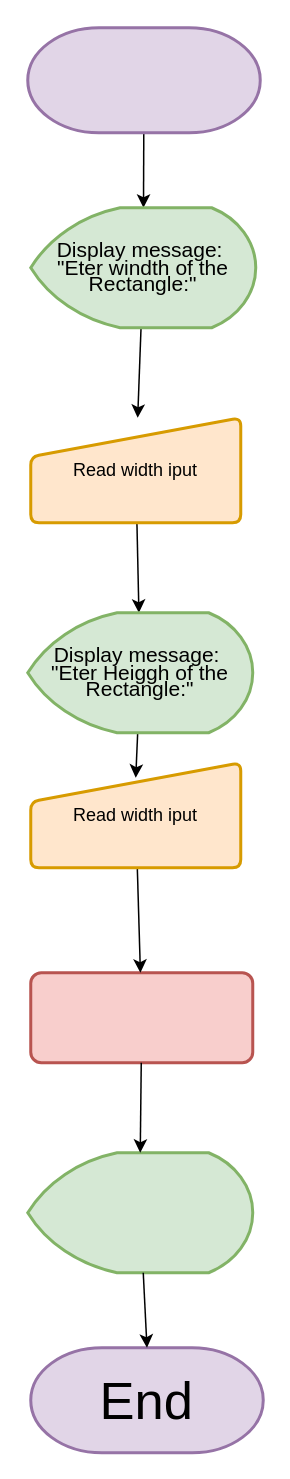
Image size: 290x1479. Some labels were removed from this diagram. The centre of each missing label's shape, as x and y in pixels:
Calculate area: area = width * height: (141,1017)
Display message: "The area of thr rectangle is",area: (140,1212)
start: (143,80)
